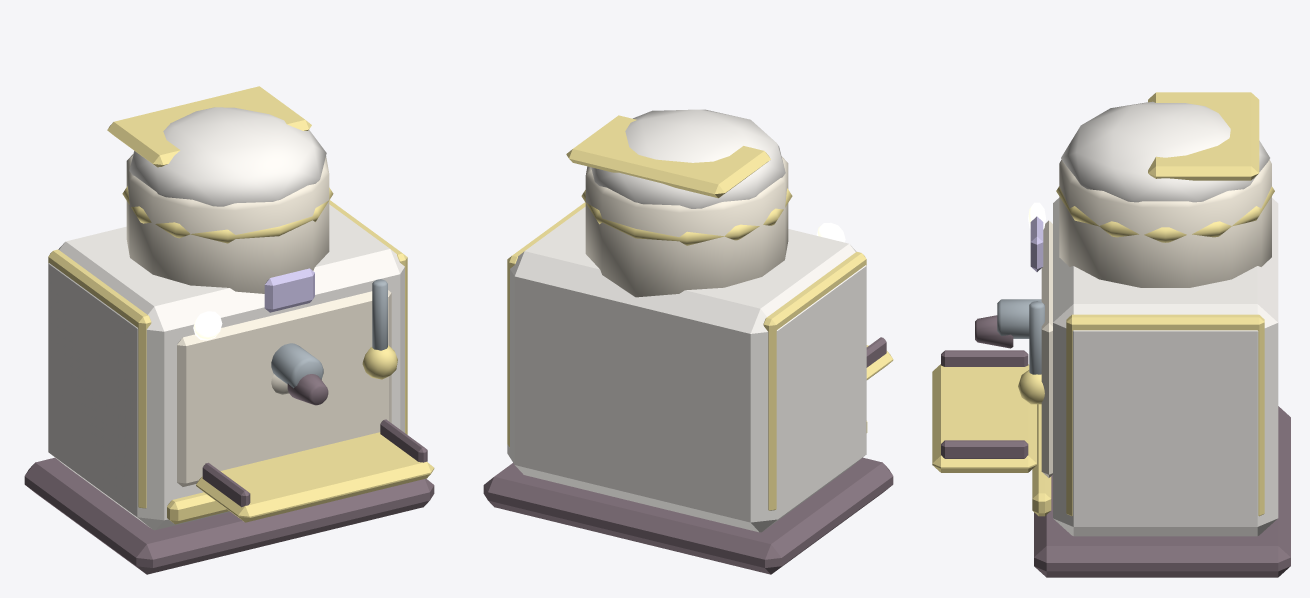
File: machine_vanilla.glb
3 views of the same model, side by side, from view 1: azimuth 30°, elevation 25°; view 2: azimuth 150°, elevation 25°; view 3: azimuth 270°, elevation 25° (orthographic). The views are drawn at different scales.
Parts seen in each view (by area): view 1: Machine_Vanilla_Body, Machine_Vanilla_FlavorPanel, Machine_Vanilla_Tank, Machine_Vanilla_Base, Machine_Vanilla_TankCap, Machine_Vanilla_RemovableOutputTray, Machine_Vanilla_Hatch, Machine_Vanilla_L2_Rail_Left, Machine_Vanilla_L3_Badge, Machine_Vanilla_TankBand, Machine_Vanilla_NozzleNeck, Machine_Vanilla_LowerTrim (+7 smaller); view 2: Machine_Vanilla_Body, Machine_Vanilla_Base, Machine_Vanilla_Tank, Machine_Vanilla_TankCap, Machine_Vanilla_Hatch, Machine_Vanilla_L2_Rail_Left, Machine_Vanilla_TankBand, Machine_Vanilla_L2_Rail_Right; view 3: Machine_Vanilla_Body, Machine_Vanilla_Tank, Machine_Vanilla_Base, Machine_Vanilla_TankCap, Machine_Vanilla_RemovableOutputTray, Machine_Vanilla_Hatch, Machine_Vanilla_L2_Rail_Right, Machine_Vanilla_FlavorPanel, Machine_Vanilla_TankBand, Machine_Vanilla_TrayRail_R, Machine_Vanilla_TrayRail_L, Machine_Vanilla_NozzleNeck (+5 smaller).
Boxes of the visible parts, x1=… form: Machine_Vanilla_Body: x1=48, y1=204, x2=404, y2=530; Machine_Vanilla_FlavorPanel: x1=177, y1=290, x2=391, y2=486; Machine_Vanilla_Tank: x1=126, y1=154, x2=329, y2=293; Machine_Vanilla_Base: x1=24, y1=457, x2=434, y2=574; Machine_Vanilla_TankCap: x1=129, y1=107, x2=326, y2=206; Machine_Vanilla_RemovableOutputTray: x1=196, y1=432, x2=434, y2=522; Machine_Vanilla_Hatch: x1=107, y1=86, x2=311, y2=167; Machine_Vanilla_L2_Rail_Left: x1=48, y1=249, x2=151, y2=508; Machine_Vanilla_L3_Badge: x1=264, y1=268, x2=314, y2=312; Machine_Vanilla_TankBand: x1=122, y1=186, x2=333, y2=243; Machine_Vanilla_NozzleNeck: x1=271, y1=343, x2=323, y2=388; Machine_Vanilla_LowerTrim: x1=167, y1=492, x2=229, y2=524; Machine_Vanilla_Body: x1=507, y1=206, x2=866, y2=532; Machine_Vanilla_Base: x1=483, y1=457, x2=893, y2=574; Machine_Vanilla_Tank: x1=585, y1=156, x2=788, y2=297; Machine_Vanilla_TankCap: x1=591, y1=109, x2=785, y2=208; Machine_Vanilla_Hatch: x1=566, y1=115, x2=770, y2=198; Machine_Vanilla_L2_Rail_Left: x1=763, y1=252, x2=866, y2=510; Machine_Vanilla_TankBand: x1=581, y1=188, x2=792, y2=245; Machine_Vanilla_L2_Rail_Right: x1=507, y1=202, x2=585, y2=447; Machine_Vanilla_Body: x1=1053, y1=198, x2=1278, y2=536; Machine_Vanilla_Tank: x1=1059, y1=159, x2=1271, y2=287; Machine_Vanilla_Base: x1=1034, y1=406, x2=1290, y2=577; Machine_Vanilla_TankCap: x1=1061, y1=101, x2=1269, y2=202; Machine_Vanilla_RemovableOutputTray: x1=932, y1=364, x2=1036, y2=472; Machine_Vanilla_Hatch: x1=1148, y1=92, x2=1259, y2=180; Machine_Vanilla_L2_Rail_Right: x1=1066, y1=314, x2=1264, y2=516; Machine_Vanilla_FlavorPanel: x1=1041, y1=220, x2=1052, y2=477; Machine_Vanilla_TankBand: x1=1056, y1=186, x2=1274, y2=242; Machine_Vanilla_TrayRail_R: x1=941, y1=440, x2=1028, y2=458; Machine_Vanilla_TrayRail_L: x1=941, y1=350, x2=1028, y2=366; Machine_Vanilla_NozzleNeck: x1=997, y1=299, x2=1041, y2=338.
Bounding box in the file's own units: 2.28 × 2.9 × 2.29.
